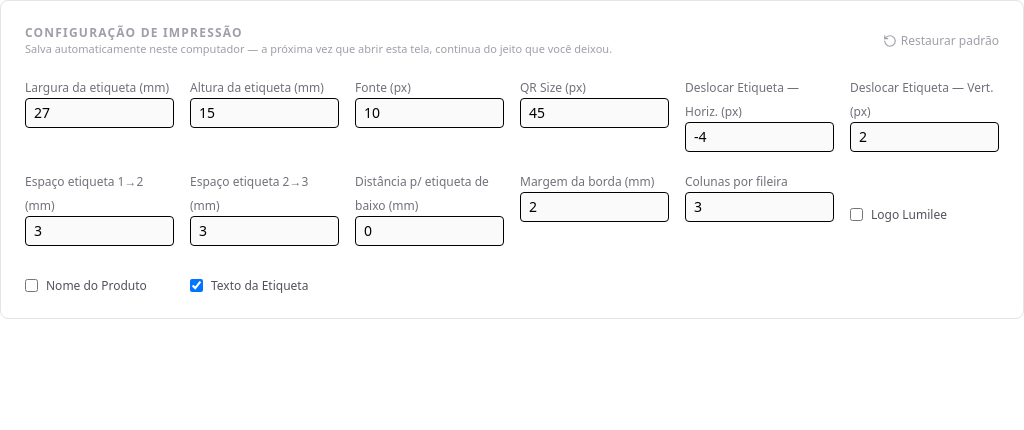
Test: LabelPrintConfigPanel › colunas por fileira aceita só inteiro (arredonda) e respeita o limite de 1 a 10
Replace the text in the field labelled "Colunas por fileira" with "4.7": (760, 206) [685,192,834,222]
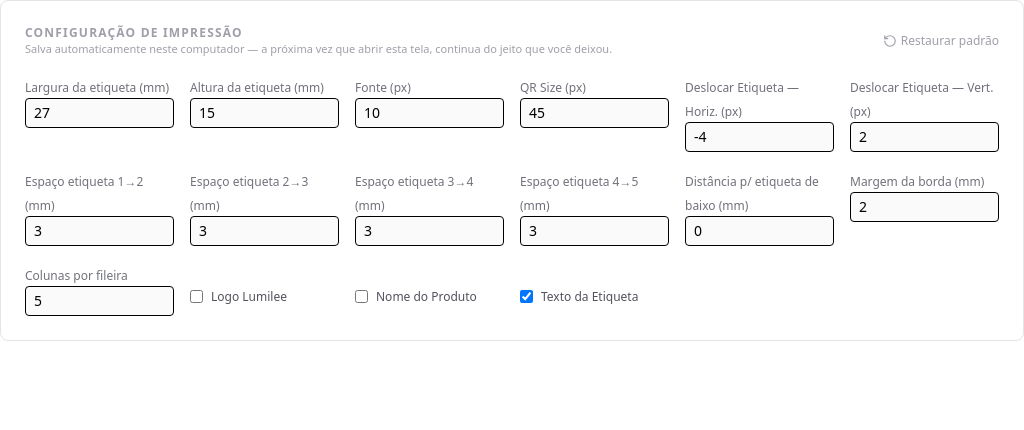
Result: the field labelled "Colunas por fileira" holds "5"
Replace the text in the field labelled "Colunas por fileira" with "99": (100, 300) [25,286,174,316]
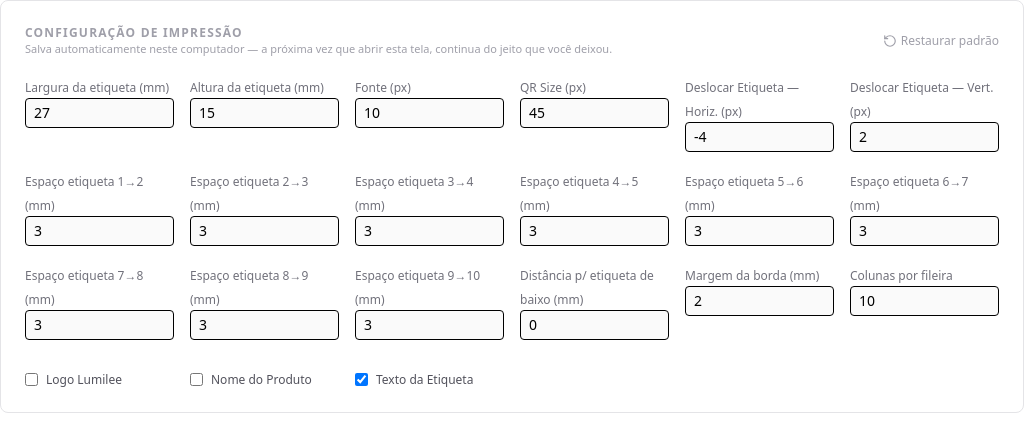
Result: the field labelled "Colunas por fileira" holds "10" at [850,286,999,316]
